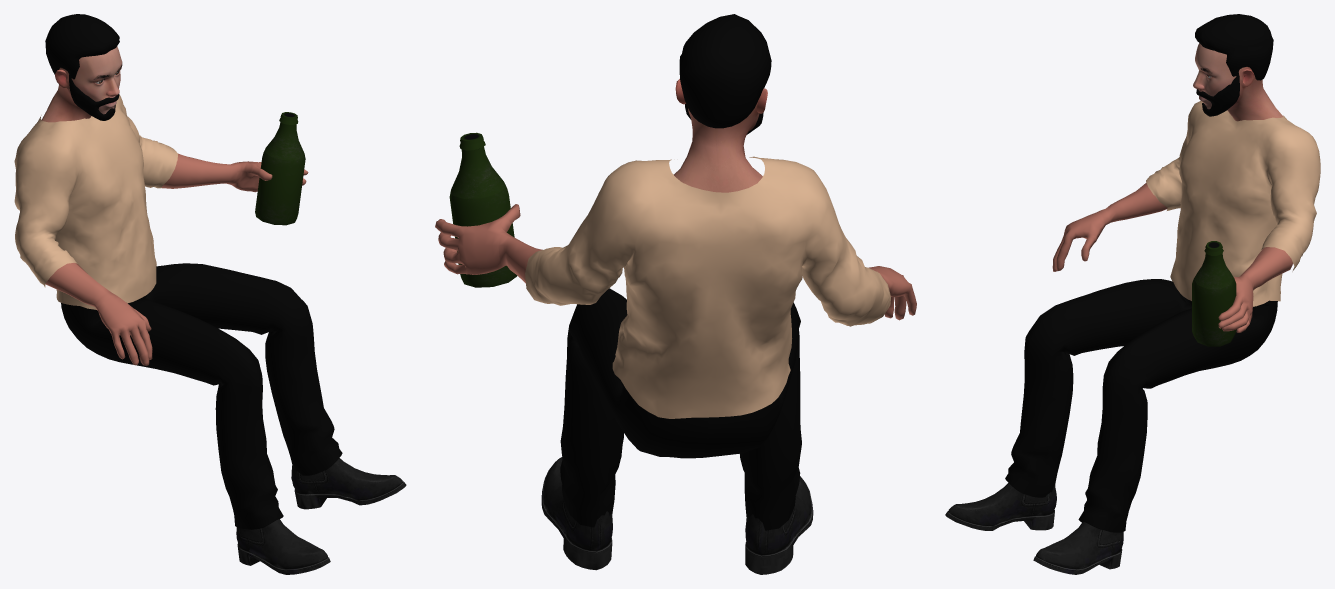
File: ManDrinking.gltf
The picture shows the model from 3 angles, left to right: view 1: azimuth 30°, elevation 25°; view 2: azimuth 150°, elevation 25°; view 3: azimuth 270°, elevation 25°; orthographic projection. The views are drawn at different scales.
Visible parts, largest first — view 1: Object_21, Tshirt_Fabric_0, Object_23, Object_19, Beer_Bottle2_Material_0, Object_11, Object_15, Object_17; view 2: Tshirt_Fabric_0, Object_21, Object_15, Object_23, Object_19, Object_11, Beer_Bottle2_Material_0; view 3: Object_21, Tshirt_Fabric_0, Object_23, Object_19, Beer_Bottle2_Material_0, Object_15, Object_11, Object_17.
Boxes of the visible parts, <box> form: Object_21: <box>61,263,342,529</box>; Tshirt_Fabric_0: <box>14,94,177,309</box>; Object_23: <box>236,458,406,574</box>; Object_19: <box>45,153,308,365</box>; Beer_Bottle2_Material_0: <box>255,112,305,225</box>; Object_11: <box>41,46,122,122</box>; Object_15: <box>45,14,119,79</box>; Object_17: <box>69,75,119,120</box>; Tshirt_Fabric_0: <box>525,156,890,418</box>; Object_21: <box>560,288,801,530</box>; Object_15: <box>679,14,771,128</box>; Object_23: <box>541,457,813,574</box>; Object_19: <box>435,204,916,320</box>; Object_11: <box>673,79,767,192</box>; Beer_Bottle2_Material_0: <box>449,132,517,287</box>; Object_21: <box>1005,279,1277,532</box>; Tshirt_Fabric_0: <box>1146,101,1320,306</box>; Object_23: <box>945,483,1123,574</box>; Object_19: <box>1052,182,1292,332</box>; Beer_Bottle2_Material_0: <box>1192,241,1236,346</box>; Object_15: <box>1195,14,1273,80</box>; Object_11: <box>1193,43,1283,121</box>; Object_17: <box>1196,72,1239,116</box>.
Bounding box in the file's own units: 8.93 × 13.34 × 9.53.
9 materials, 9 textured.
